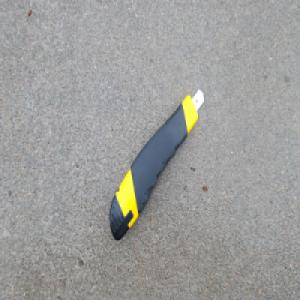Cutter: (109, 86, 206, 241)
